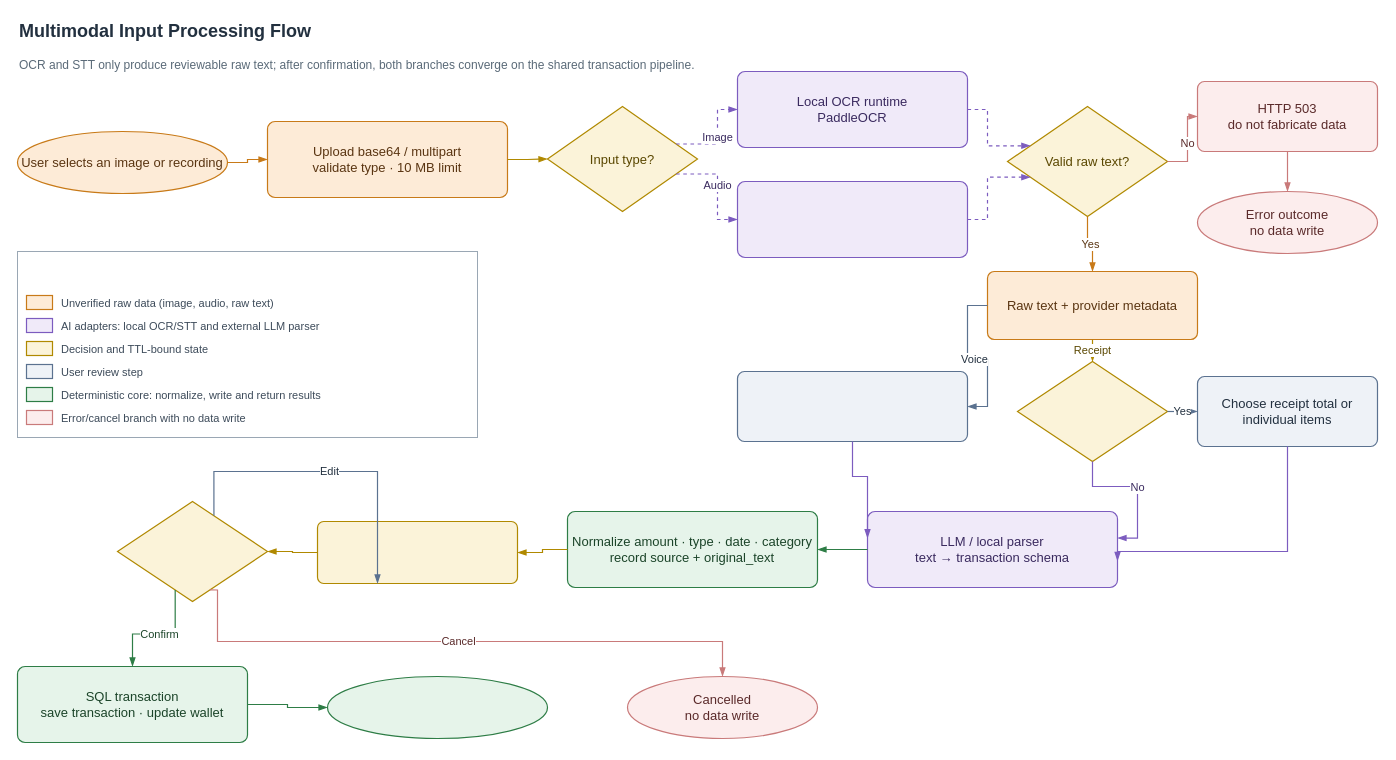
Image size: 1396x760. Some labels were removed from this diagram. The box of each missing label's shape, as (x1, y1, x2, y2) in pixels:
Auditable result: (326, 675, 548, 739)
Color Legend: (16, 250, 478, 438)
Confirm?: (116, 500, 268, 602)
Local STT runtime PhoWhisper: (736, 180, 968, 258)
Pending preview with TTL: (316, 520, 518, 584)
Receipt multiple items?: (1016, 360, 1168, 462)
User confirm / edits transcript: (736, 370, 968, 442)
